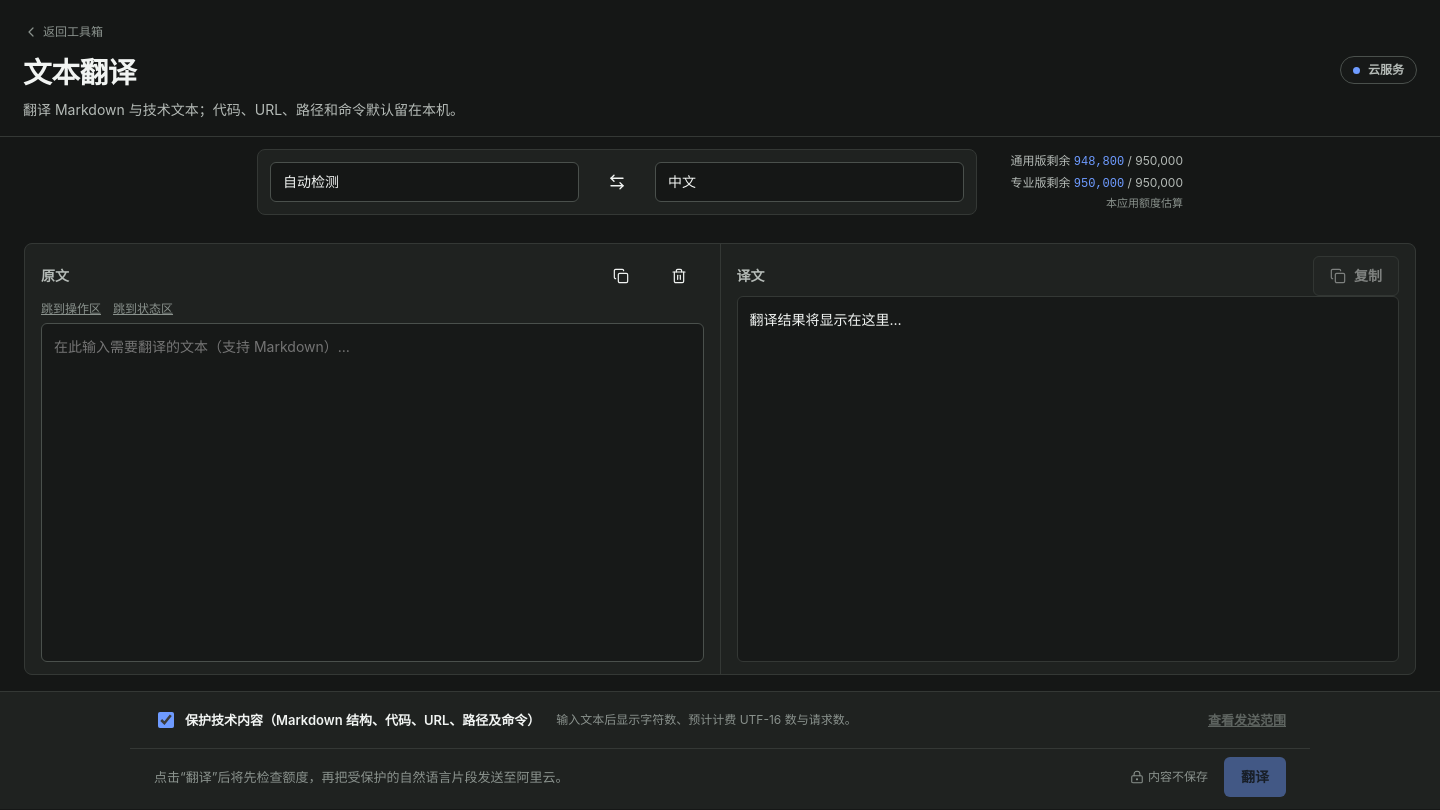
TranslateView 文本翻译工作台 › 默认译为中文；点击翻译后直接预检、排队、claim 并发送片段
The image size is (1440, 810).
Expected: the dropdown with id "translate-target-language" holds "中文", [655,162,964,202]
Type "查看 https://example.com/docs 的说明，然后运行 `npm run build`。" into the text box with id "translate-input". click: (372, 493)
box: [41,323,704,662]
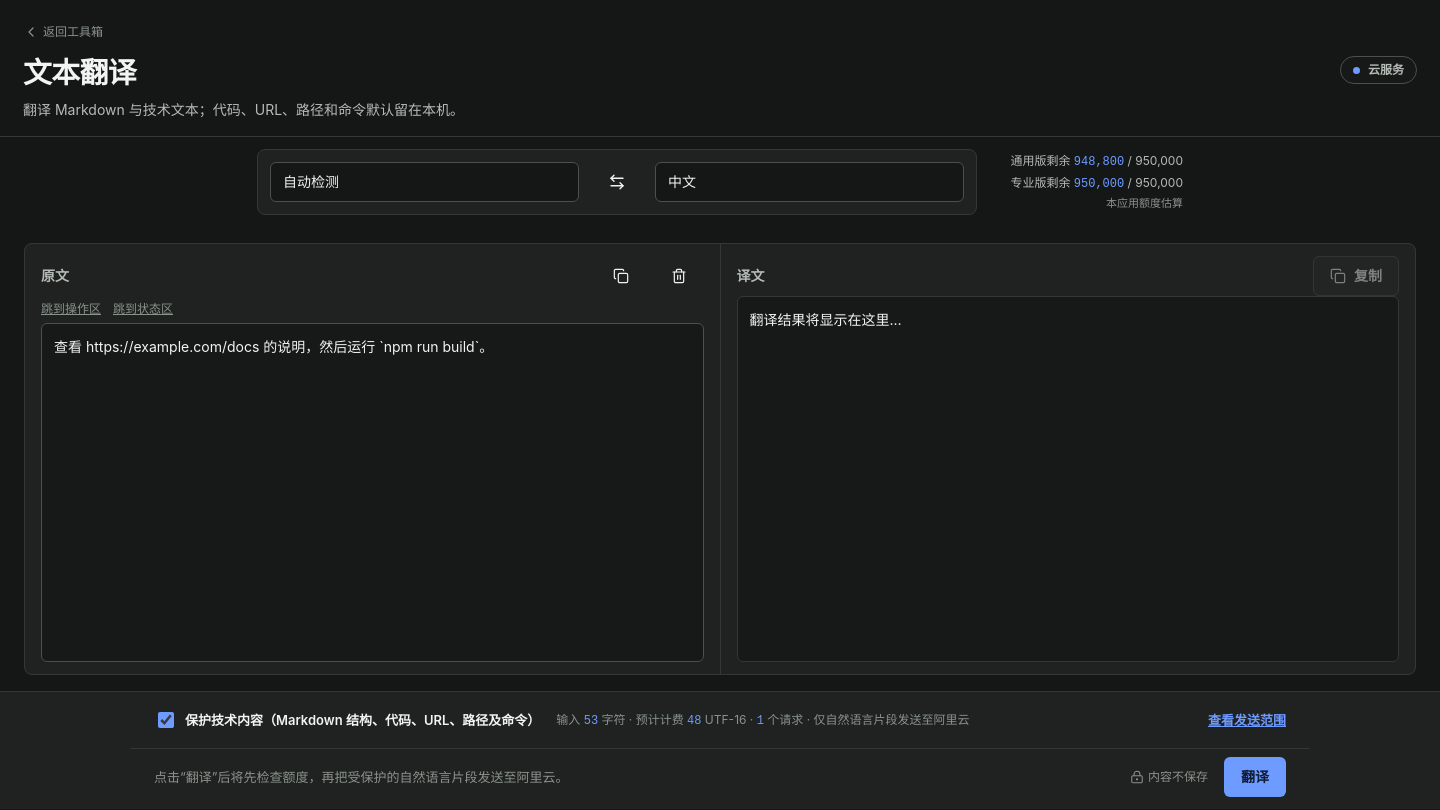
Type "英语" into the dropdown with id "translate-target-language". click: (810, 182)
box: [655,162,964,202]
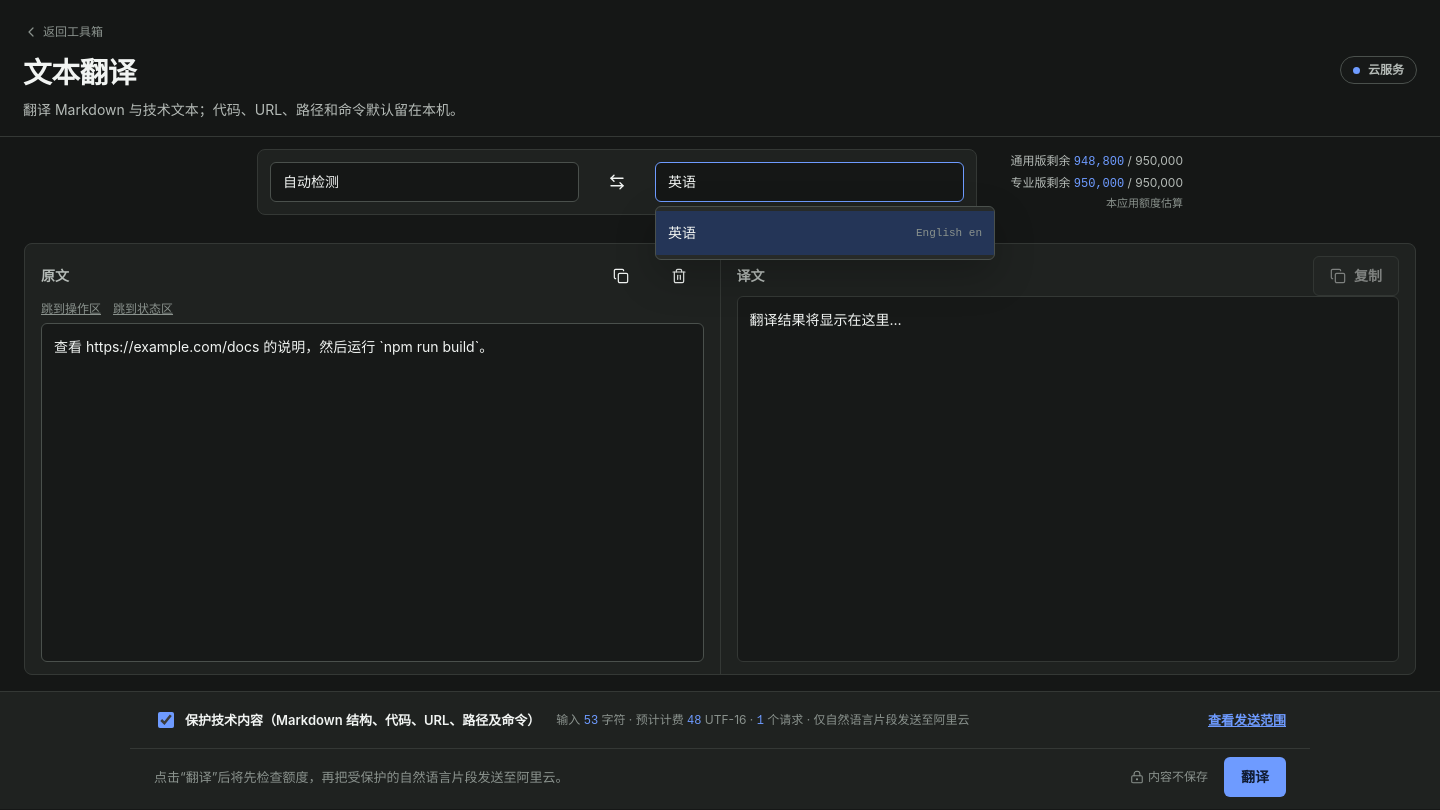
Click the option "英语 English en". click: click(949, 233)
box: [656,211,994,255]
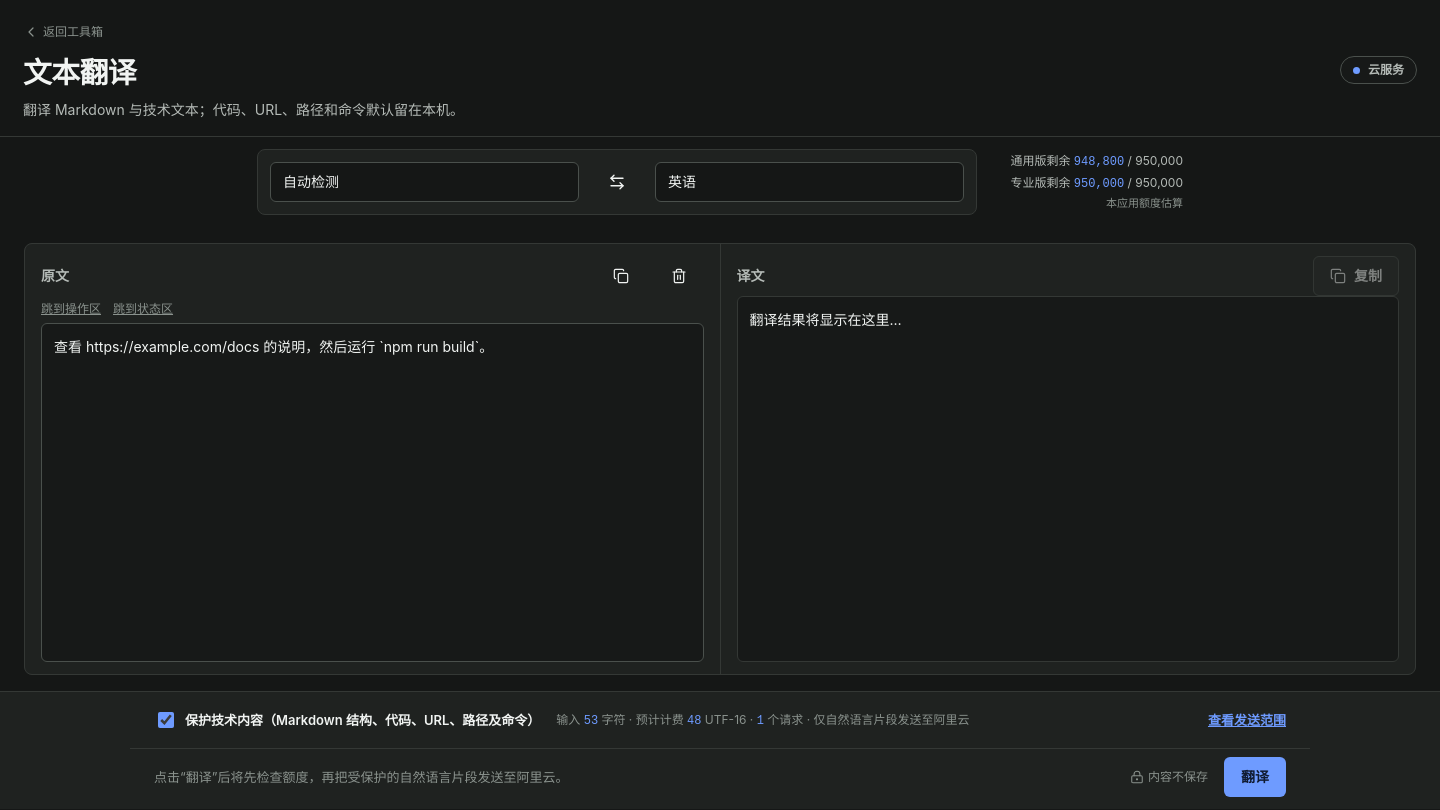
Now the text "1 个请求" is shown, box [556,712,970,728]
Now the text "仅自然语言片段发送至阿里云" is shown, box [764,712,970,726]
Click the button with test id "translate-primary". click: click(1255, 777)
box: [1224,757,1286,797]
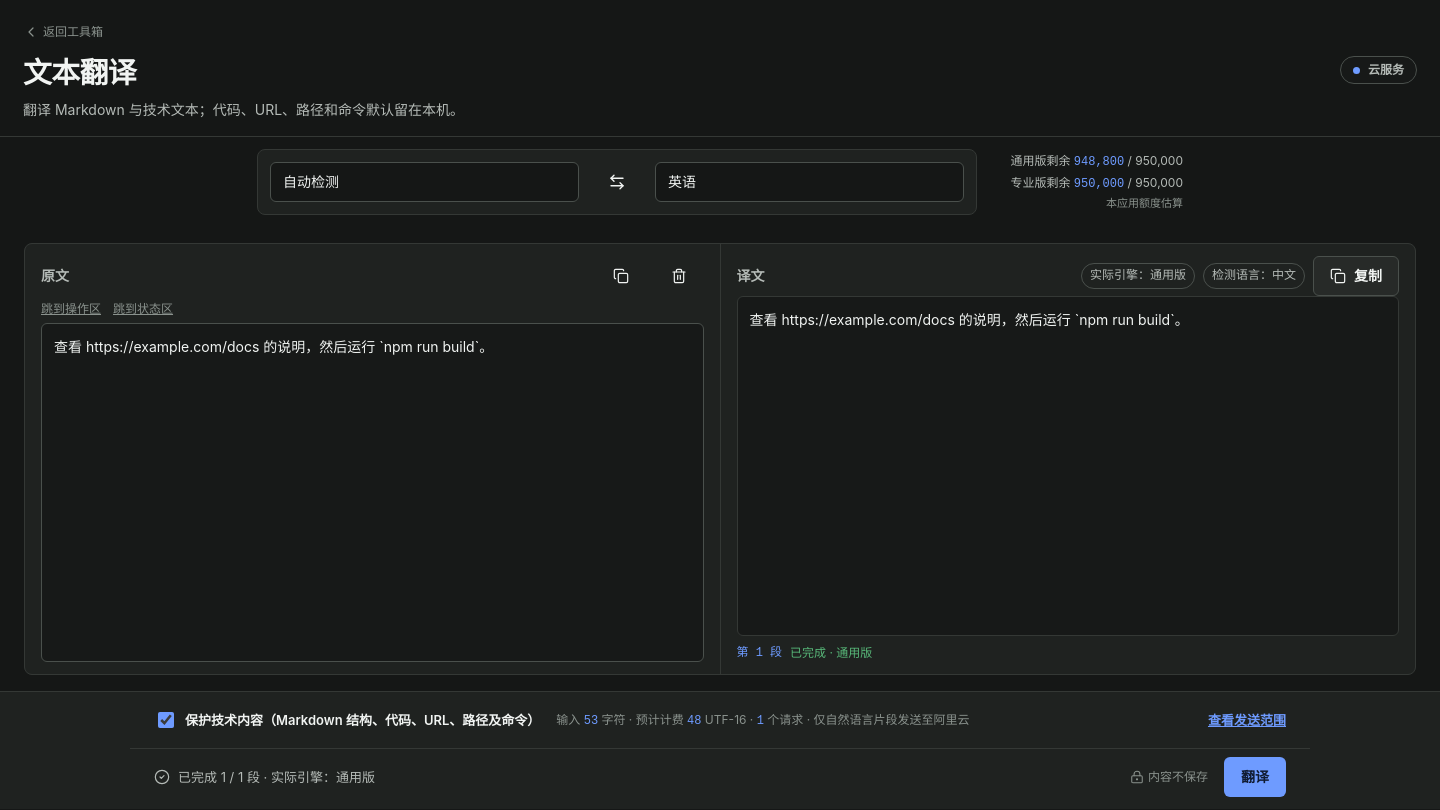
Now the text with test id "translate-output" shows "https://example.com/docs", box [750,311,1189,328]
Now the text with test id "translate-output" shows "`npm run build`", box [750,311,1189,328]
Now the text "检测语言：中文" is shown, box [1203,263,1305,289]
